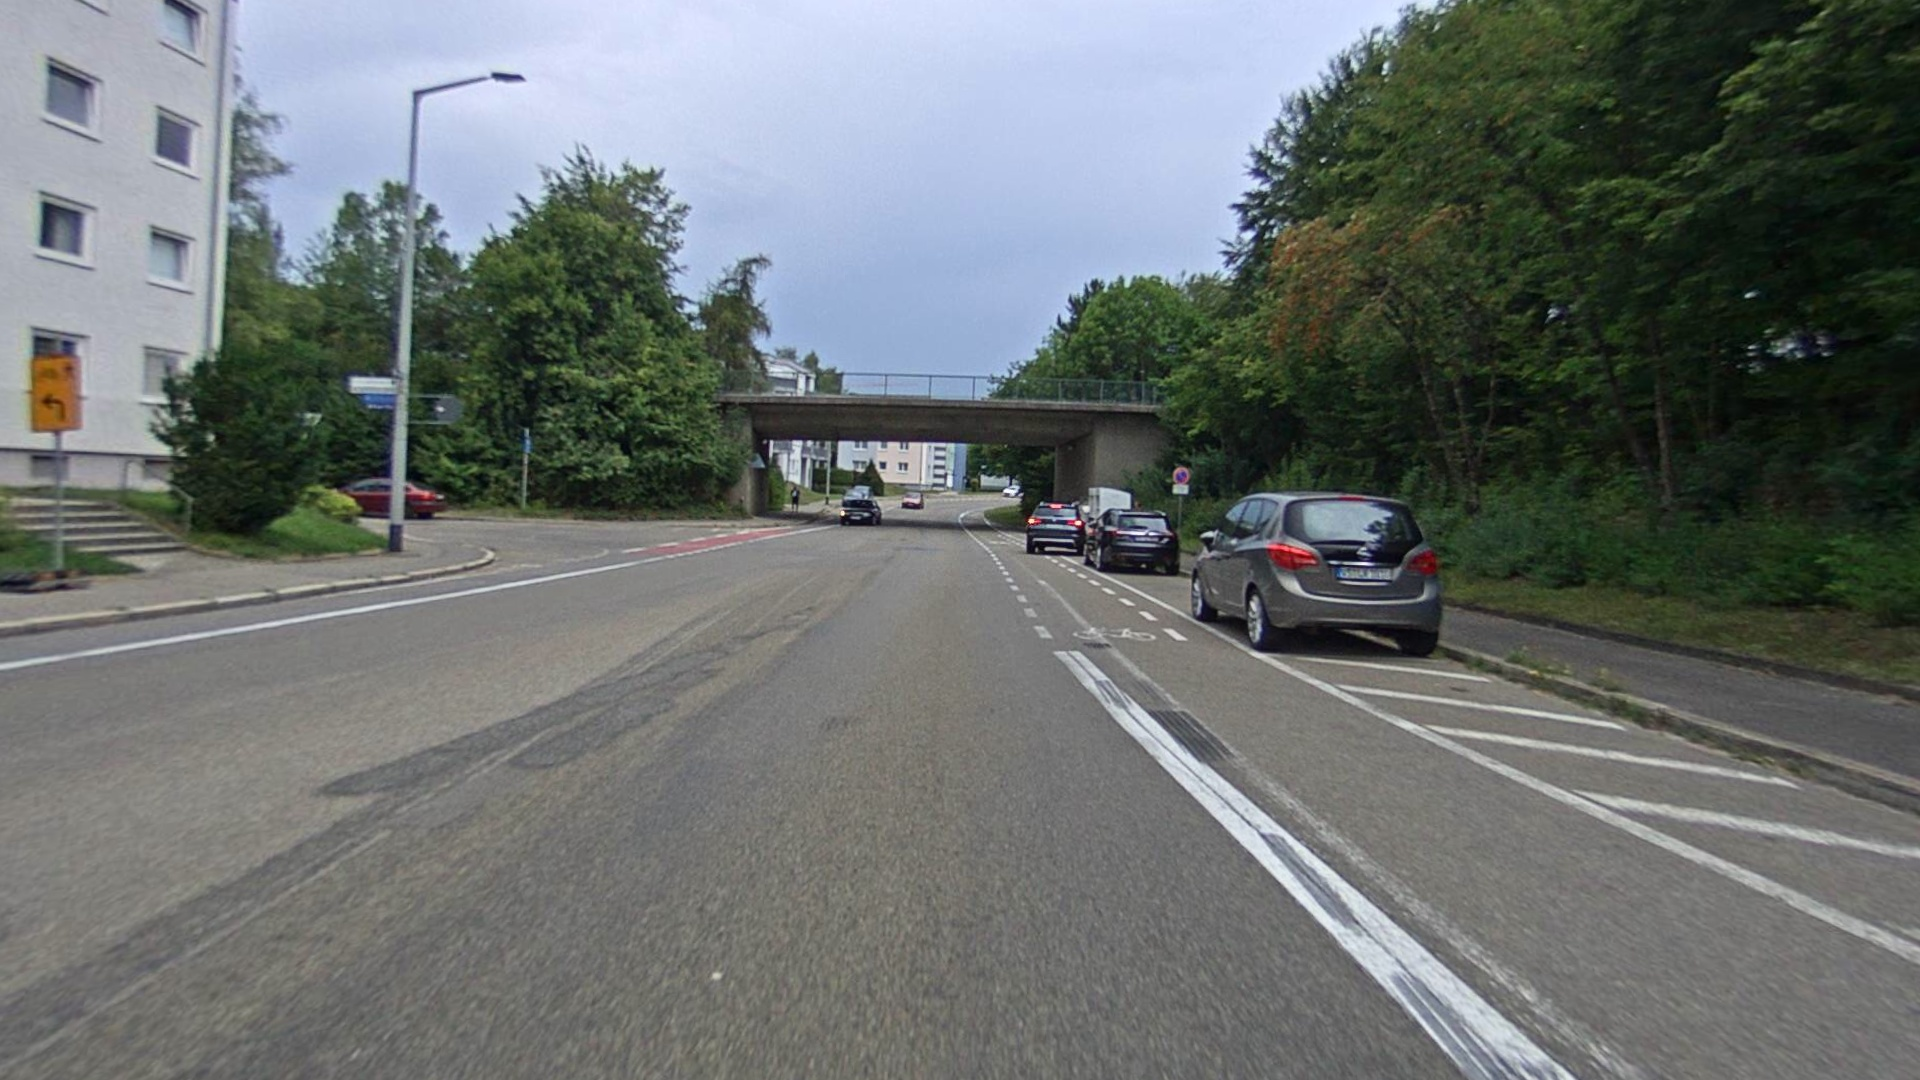car: (1189, 489, 1445, 659)
